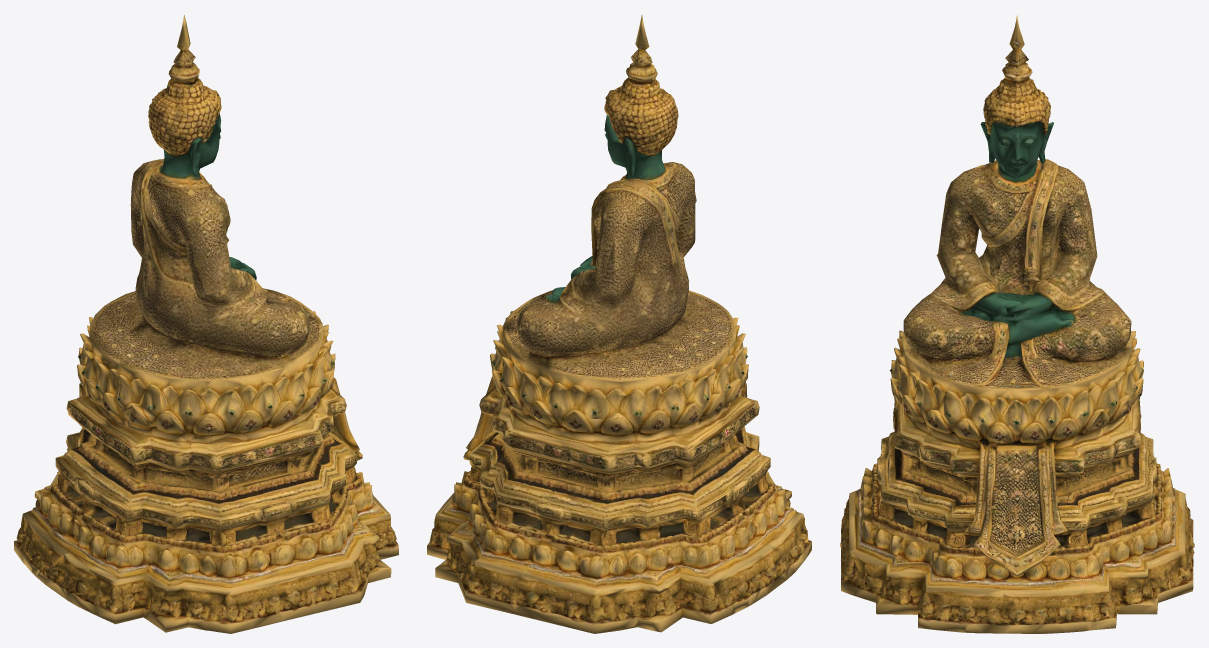
Rendered from emerald-cool.glb.
3 renders of one model, left to right at view 1: azimuth 30°, elevation 25°; view 2: azimuth 150°, elevation 25°; view 3: azimuth 270°, elevation 25°, orthographic.
Visible parts, largest first — view 1: tripo_node_d51a23eb-22cb-412f-ae36-f139901a7b41; view 2: tripo_node_d51a23eb-22cb-412f-ae36-f139901a7b41; view 3: tripo_node_d51a23eb-22cb-412f-ae36-f139901a7b41.
Boxes of the visible parts, x1,y1,x2,y2 form: tripo_node_d51a23eb-22cb-412f-ae36-f139901a7b41: (14, 15, 398, 633); tripo_node_d51a23eb-22cb-412f-ae36-f139901a7b41: (427, 15, 811, 633); tripo_node_d51a23eb-22cb-412f-ae36-f139901a7b41: (840, 14, 1194, 633).
Bounding box in the file's own units: 0.6021 × 1 × 0.6001.
Materials: 1 (1 with a texture image).
